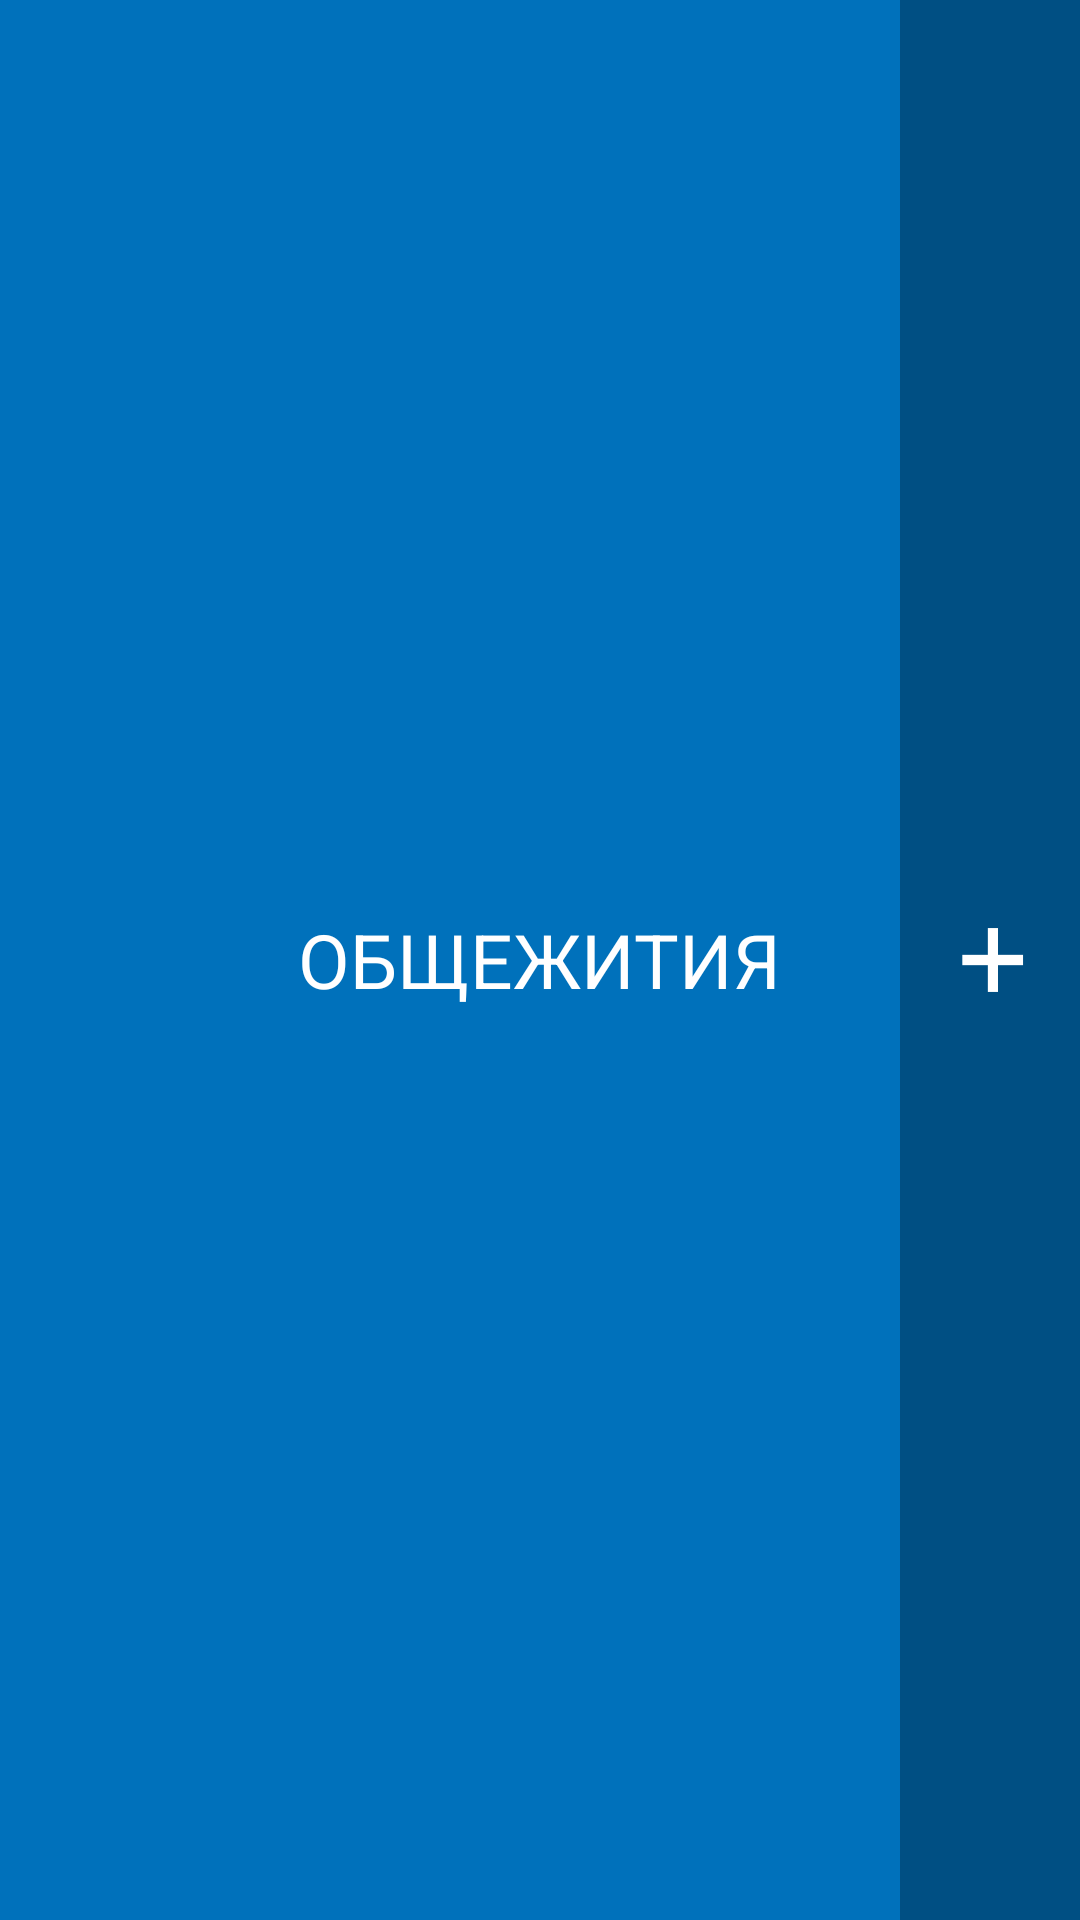

Screen size 1080x1920. Icon name, then its box in pixels as Rect(x1, y1, x2, y2):
plus: Rect(962, 928, 1023, 992)
